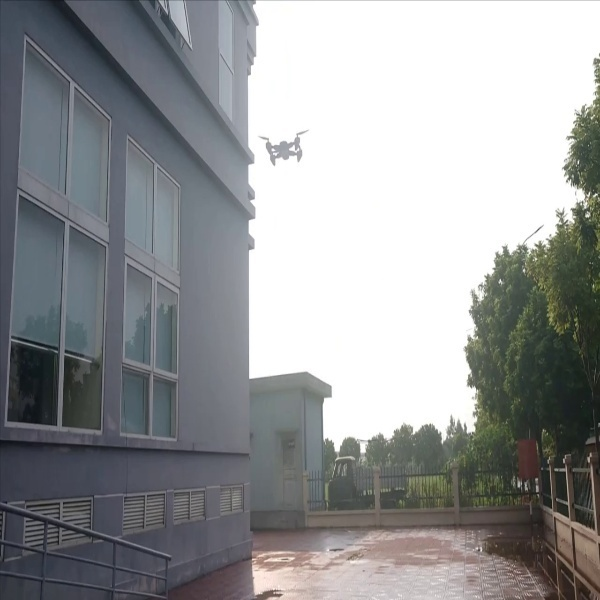drone: (256, 124, 311, 169)
